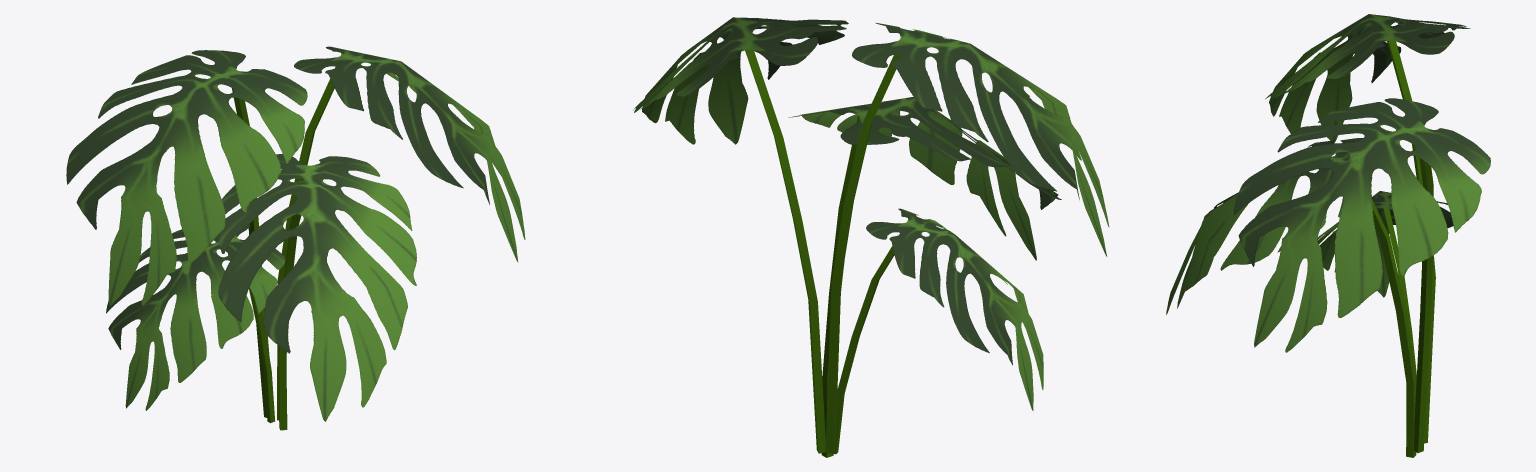
The model's file is Monstera_003.fbx.
3 views of the same model, side by side, from view 1: azimuth 30°, elevation 25°; view 2: azimuth 150°, elevation 25°; view 3: azimuth 270°, elevation 25° (orthographic). The views are drawn at different scales.
Visible parts, largest first — view 1: Monstera_003; view 2: Monstera_003; view 3: Monstera_003.
Part boxes in pixels (box(x1,y1,x2,y2)): Monstera_003: box(66, 46, 525, 430); Monstera_003: box(633, 17, 1109, 457); Monstera_003: box(1166, 14, 1490, 457).
Size of the model in its own units: 9.54 by 7.8 by 6.43.
2 materials, 1 textured.
